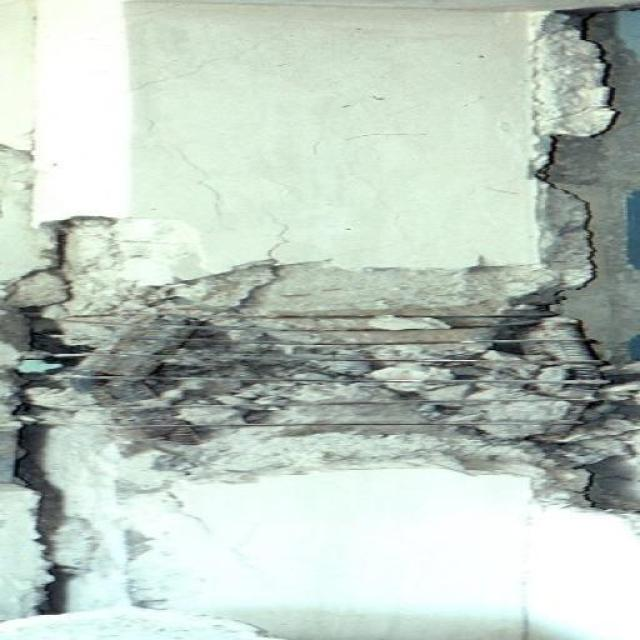D0w0: (19, 262, 636, 509)
